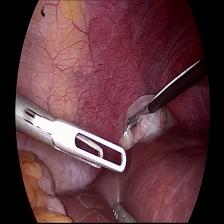Grasper: (13, 92, 131, 187), (125, 104, 150, 135)
Irrigator: (110, 198, 140, 224)
Specimen Bag: (120, 76, 176, 152)
